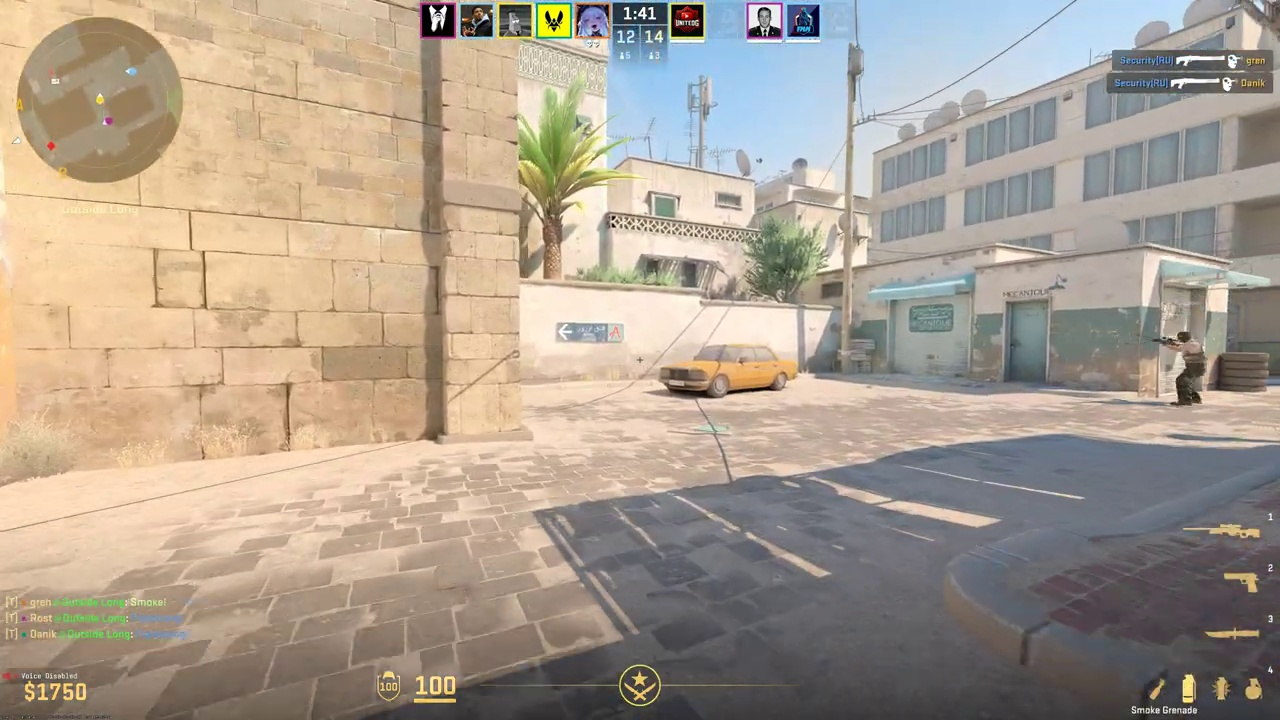Terrorist: (1169, 332, 1207, 406)
